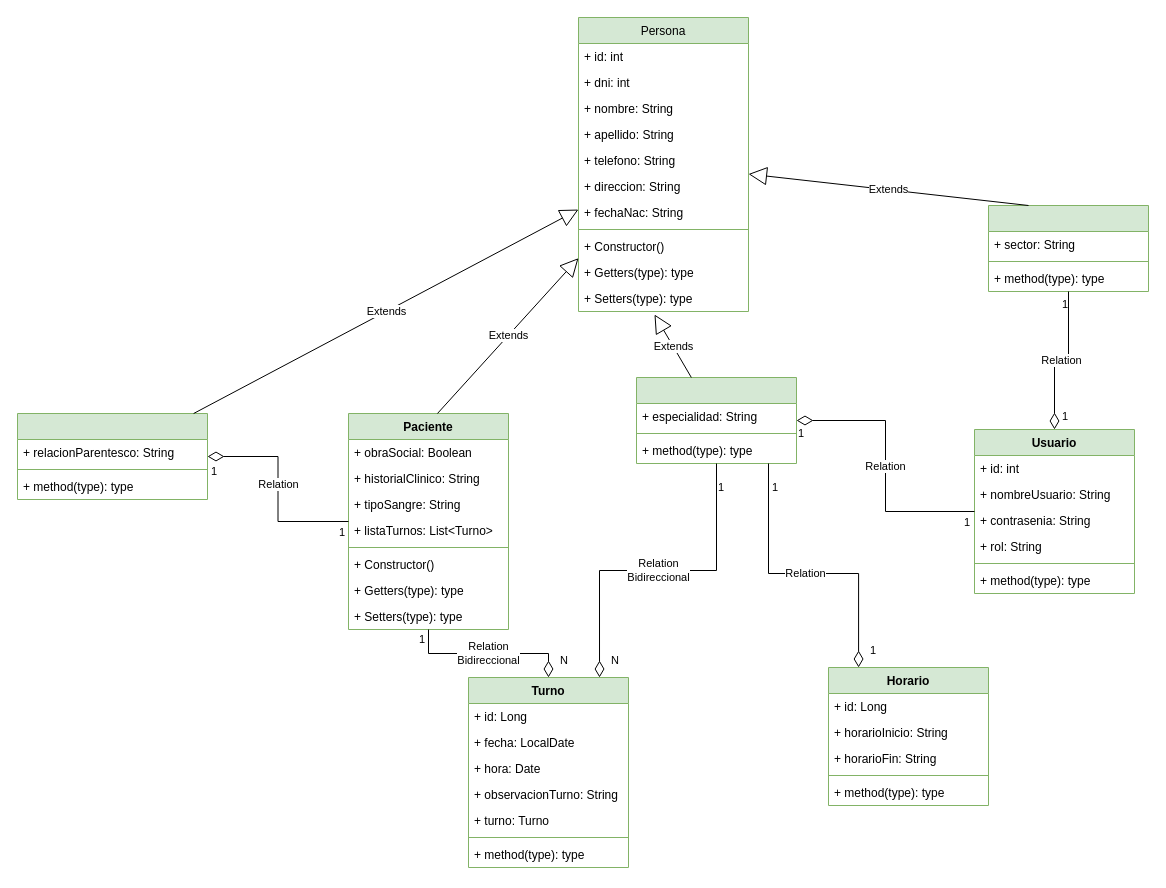
Some shapes in this 1166 by 888 pixel diagram are drawn without their labels. The shapes that lost their labels are listed below. From the top down, each one's box as (x1, y1, x2, y2) in pixels, then its label:
(988, 204, 1148, 292): Secretario
(636, 376, 796, 464): Doctor
(16, 412, 208, 500): Responsable
